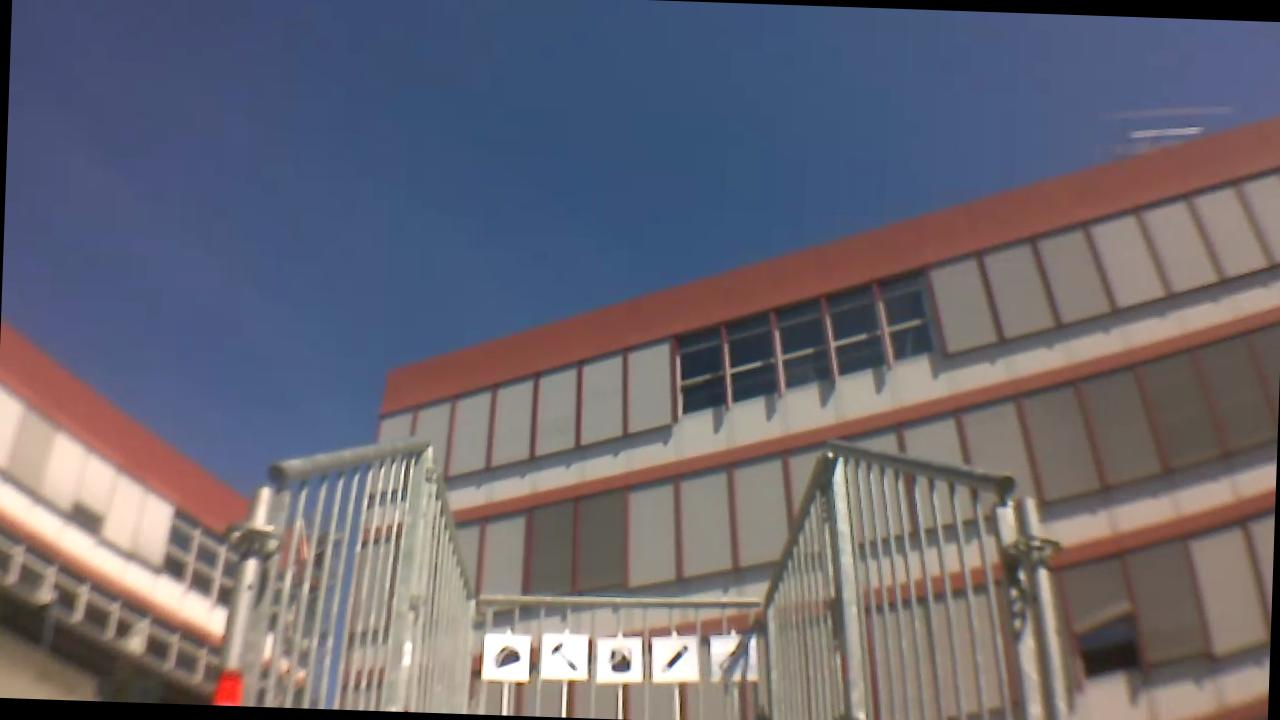stairs: (214, 432, 1068, 720)
